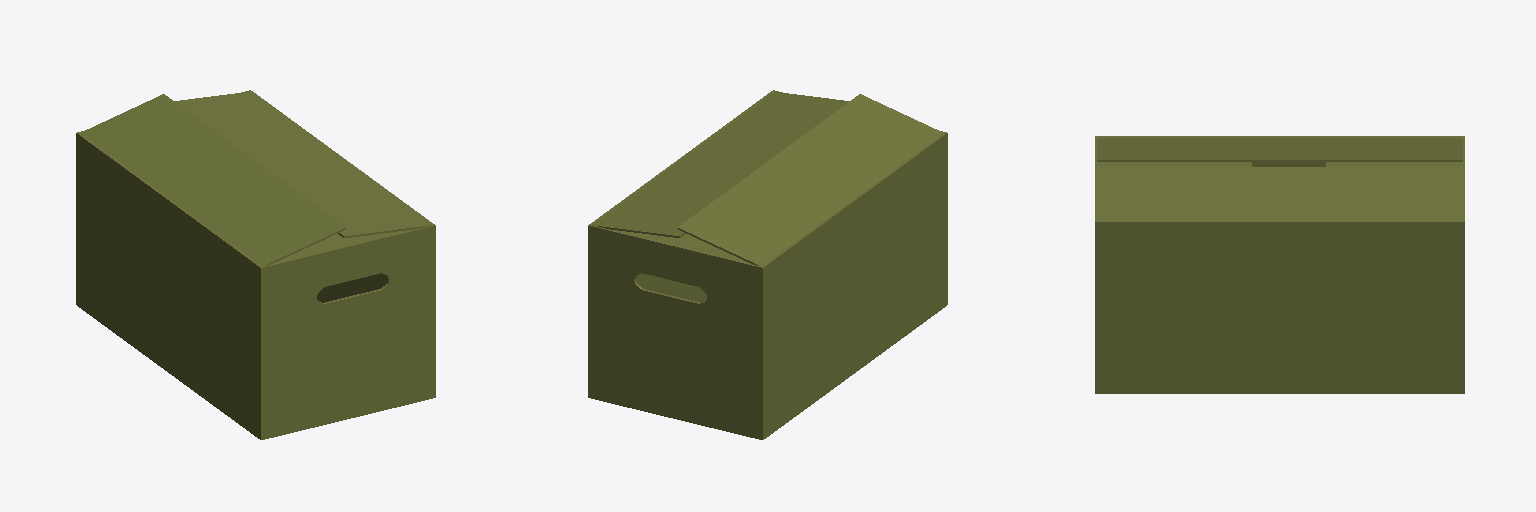
The model's file is boox_3.obj.
The picture shows the model from 3 angles: view 1: azimuth 30°, elevation 25°; view 2: azimuth 150°, elevation 25°; view 3: azimuth 270°, elevation 25°; orthographic projection.
Visible parts, largest first — view 1: pCube1; view 2: pCube1; view 3: pCube1.
Boxes of the visible parts, x1,y1,x2,y2 form: pCube1: [76, 90, 435, 439]; pCube1: [588, 90, 947, 439]; pCube1: [1095, 136, 1464, 393].
Size of the model in its own units: 70.31 by 73.48 by 129.